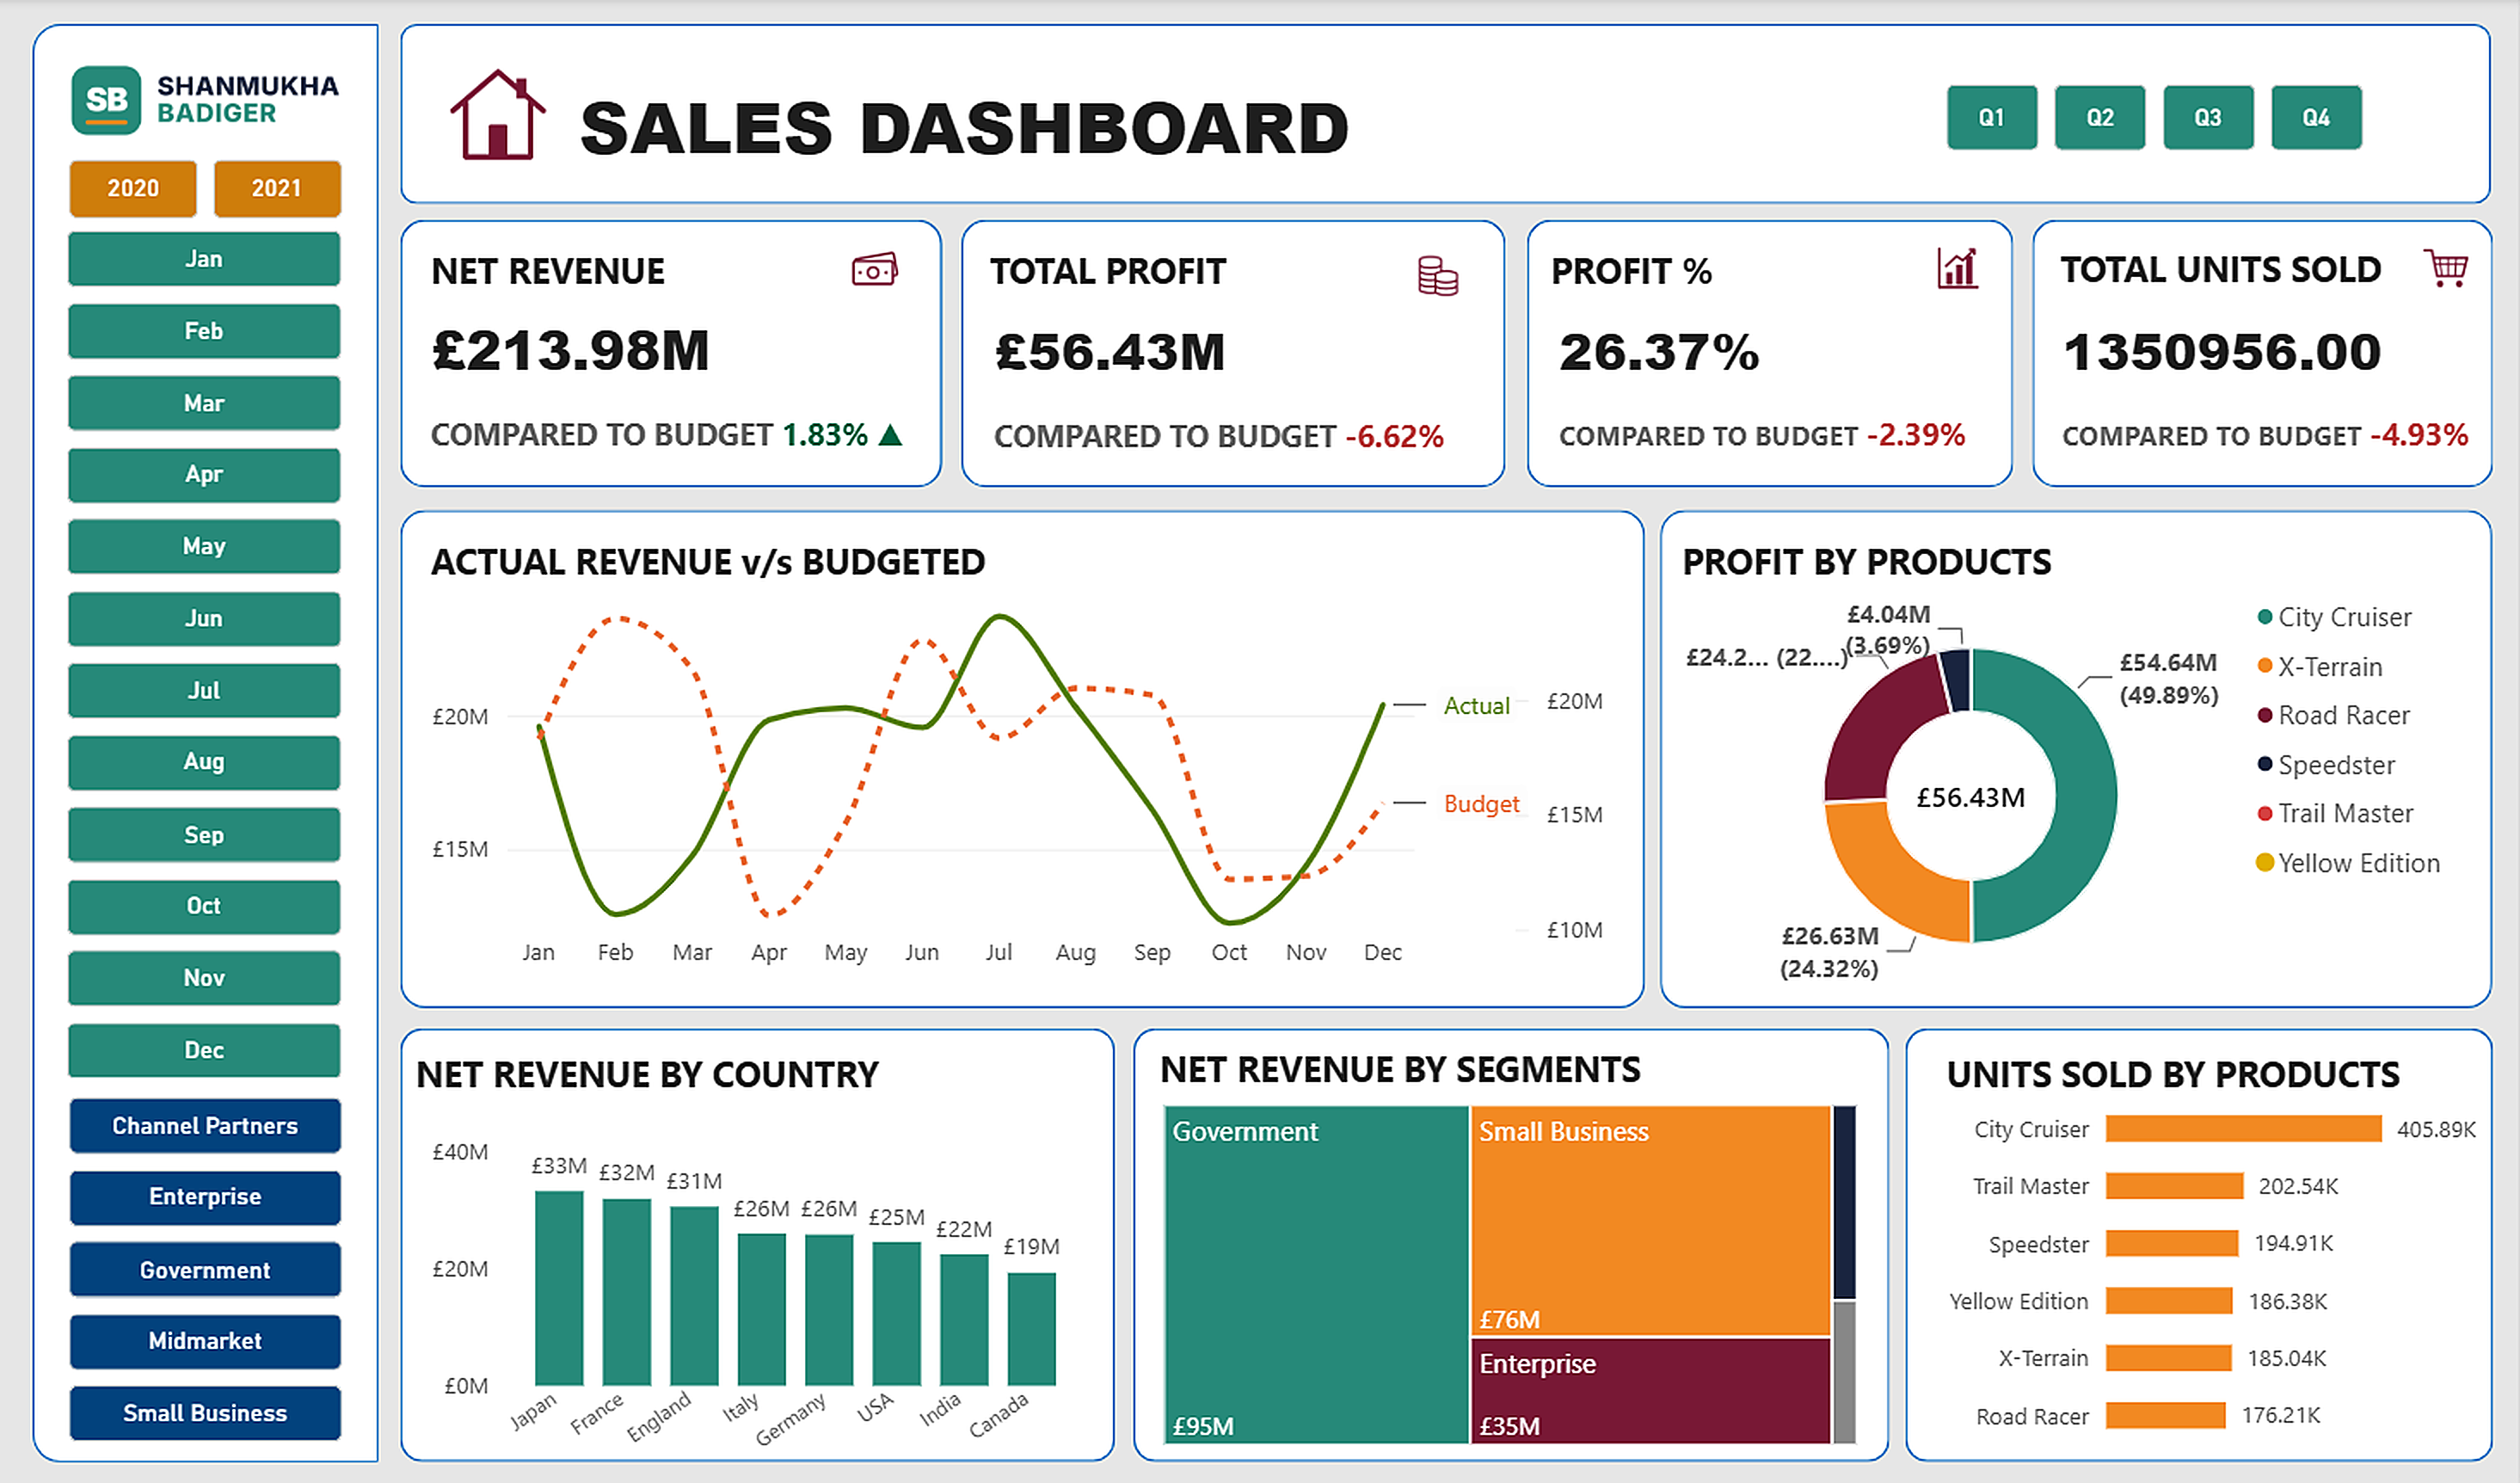

This screenshot's page, from the dashboard's own definition file:
{"tool":"powerbi","page":{"name":"Page 1","canvas":[1340,789],"ordinal":0},"visuals":[{"type":"shape","box":[282.2,13.3,1044.4,94.4],"z":0},{"type":"shape","box":[282.2,116.7,267.8,141.1],"z":1000},{"type":"shape","box":[557.8,116.7,286.1,141.2],"z":2000},{"type":"shape","box":[1097.8,116.7,228.9,141.1],"z":3000},{"type":"shape","box":[850,116.7,241,141.2],"z":4000},{"type":"textbox","box":[295.6,128.9,132.7,26.8],"z":6000},{"type":"textbox","box":[570,128.9,132.7,28],"z":7000},{"type":"textbox","box":[868.9,128.9,132.7,28],"z":8000},{"type":"textbox","box":[1109,129,185,28],"z":9000},{"type":"shape","box":[282.4,269.9,675.3,263.1],"z":10000},{"type":"shape","box":[972.2,270,354.4,263.3],"z":11000},{"type":"shape","box":[282.4,554.6,437.3,218.7],"z":12000},{"type":"shape","box":[736.8,554.6,283.8,218.8],"z":13000},{"type":"shape","box":[1034.4,554.4,292.2,218.9],"z":14000},{"type":"shape","box":[27.3,13.7,238,759.6],"z":15000},{"type":"textbox","box":[986,284.8,297,28],"z":16000},{"type":"textbox","box":[296.7,565.6,293.4,28],"z":17000},{"type":"textbox","box":[748.9,565.6,258.1,28],"z":18000},{"type":"textbox","box":[1046.7,565.6,257.8,27.8],"z":19000},{"type":"cardVisual","fields":{"Data":["METRIC TABLE.ACTUAL REVENUE"]},"box":[284.4,166.7,285.6,78.9],"z":20000},{"type":"lineChart","fields":{"Category":["tbl_Budget.Month"],"Y":["METRIC TABLE.ACTUAL REVENUE"],"Y2":["METRIC TABLE.BUDGET"]},"box":[282.5,298.8,675,233.8],"z":21000},{"type":"donutChart","fields":{"Category":["Data.Product_Name"],"Y":["METRIC TABLE.ACTUAL PROFIT"]},"box":[972.2,298.9,348.9,233.3],"z":22000},{"type":"textbox","box":[295,285,297,28],"z":23000},{"type":"columnChart","fields":{"Category":["Data.Country"],"Y":["METRIC TABLE.ACTUAL REVENUE"]},"box":[282.4,572.8,437.3,201.6],"z":24000},{"type":"cardVisual","fields":{"Data":["METRIC TABLE.ACTUAL PROFIT"]},"box":[554.4,166.7,295.6,78.9],"z":25000},{"type":"cardVisual","fields":{"Data":["METRIC TABLE.PROFIT %"]},"box":[850,166.7,242.6,78.6],"z":26000},{"type":"cardVisual","fields":{"Data":["METRIC TABLE.ACTUAL UNITS"]},"box":[1097.8,166.7,228.6,78.6],"z":27000},{"type":"treemap","fields":{"Group":["Data.Segment"],"Values":["METRIC TABLE.ACTUAL REVENUE"]},"box":[736.7,588.9,283.3,186.7],"z":28000},{"type":"barChart","fields":{"Category":["Data.Product_Name"],"Y":["METRIC TABLE.ACTUAL UNITS"]},"box":[1033.3,565,291.7,218.3],"z":29000},{"type":"advancedSlicerVisual","fields":{"Values":["Data.Year"]},"box":[46.3,42.6,199.6,36.5],"z":30000},{"type":"advancedSlicerVisual","fields":{"Values":["tbl_Budget.Month"]},"box":[46.3,101,199.6,454.1],"z":31000},{"type":"advancedSlicerVisual","fields":{"Values":["Data.Segment"]},"box":[47.5,566,199.6,193.6],"z":32000},{"type":"advancedSlicerVisual","fields":{"Values":["tbl_Budget.Quarter"]},"box":[1038.4,45,221.5,35.3],"z":33000},{"type":"image","box":[297,26.8,62.1,70.6],"z":34000},{"type":"image","box":[1038.4,127.8,37.7,28],"z":35000},{"type":"image","box":[785.2,127.8,37.7,28],"z":36000},{"type":"image","box":[501.5,127.8,37.7,28],"z":37000},{"type":"image","box":[1283,127.8,37.7,28],"z":38000},{"type":"textbox","box":[366.4,35.3,438.2,56],"z":38001}]}

Visuals, with their boxes in screenshot pixels (x1, y1, x2, y2), scaled from the page's 1340x789 canvas onto the 2520x1483 screenshot:
shape: x1=531 y1=25 x2=2495 y2=202
shape: x1=531 y1=219 x2=1035 y2=484
shape: x1=1049 y1=219 x2=1587 y2=485
shape: x1=2064 y1=219 x2=2495 y2=484
shape: x1=1599 y1=219 x2=2052 y2=485
textbox: x1=556 y1=243 x2=806 y2=292
textbox: x1=1072 y1=243 x2=1322 y2=295
textbox: x1=1634 y1=243 x2=1884 y2=295
textbox: x1=2086 y1=243 x2=2433 y2=295
shape: x1=531 y1=508 x2=1801 y2=1002
shape: x1=1829 y1=508 x2=2495 y2=1002
shape: x1=531 y1=1043 x2=1354 y2=1454
shape: x1=1386 y1=1043 x2=1920 y2=1454
shape: x1=1945 y1=1042 x2=2495 y2=1454
shape: x1=52 y1=26 x2=499 y2=1454
textbox: x1=1854 y1=535 x2=2412 y2=588
textbox: x1=558 y1=1063 x2=1109 y2=1116
textbox: x1=1409 y1=1063 x2=1894 y2=1116
textbox: x1=1969 y1=1063 x2=2453 y2=1116
cardVisual - METRIC TABLE.ACTUAL REVENUE: x1=535 y1=313 x2=1072 y2=462
lineChart - tbl_Budget.Month x METRIC TABLE.ACTUAL REVENUE: x1=532 y1=562 x2=1801 y2=1001
donutChart - Data.Product_Name x METRIC TABLE.ACTUAL PROFIT: x1=1829 y1=562 x2=2485 y2=1000
textbox: x1=555 y1=536 x2=1113 y2=588
columnChart - Data.Country x METRIC TABLE.ACTUAL REVENUE: x1=531 y1=1077 x2=1354 y2=1455
cardVisual - METRIC TABLE.ACTUAL PROFIT: x1=1042 y1=313 x2=1599 y2=462
cardVisual - METRIC TABLE.PROFIT %: x1=1599 y1=313 x2=2055 y2=461
cardVisual - METRIC TABLE.ACTUAL UNITS: x1=2064 y1=313 x2=2494 y2=461
treemap - Data.Segment x METRIC TABLE.ACTUAL REVENUE: x1=1386 y1=1107 x2=1918 y2=1458
barChart - Data.Product_Name x METRIC TABLE.ACTUAL UNITS: x1=1943 y1=1062 x2=2492 y2=1473
advancedSlicerVisual - Data.Year: x1=87 y1=80 x2=463 y2=149
advancedSlicerVisual - tbl_Budget.Month: x1=87 y1=190 x2=463 y2=1043
advancedSlicerVisual - Data.Segment: x1=89 y1=1064 x2=464 y2=1428
advancedSlicerVisual - tbl_Budget.Quarter: x1=1953 y1=84 x2=2369 y2=151
image: x1=558 y1=51 x2=675 y2=183
image: x1=1953 y1=240 x2=2024 y2=292
image: x1=1477 y1=240 x2=1547 y2=292
image: x1=943 y1=240 x2=1014 y2=292
image: x1=2412 y1=240 x2=2484 y2=292
textbox: x1=689 y1=66 x2=1513 y2=171
